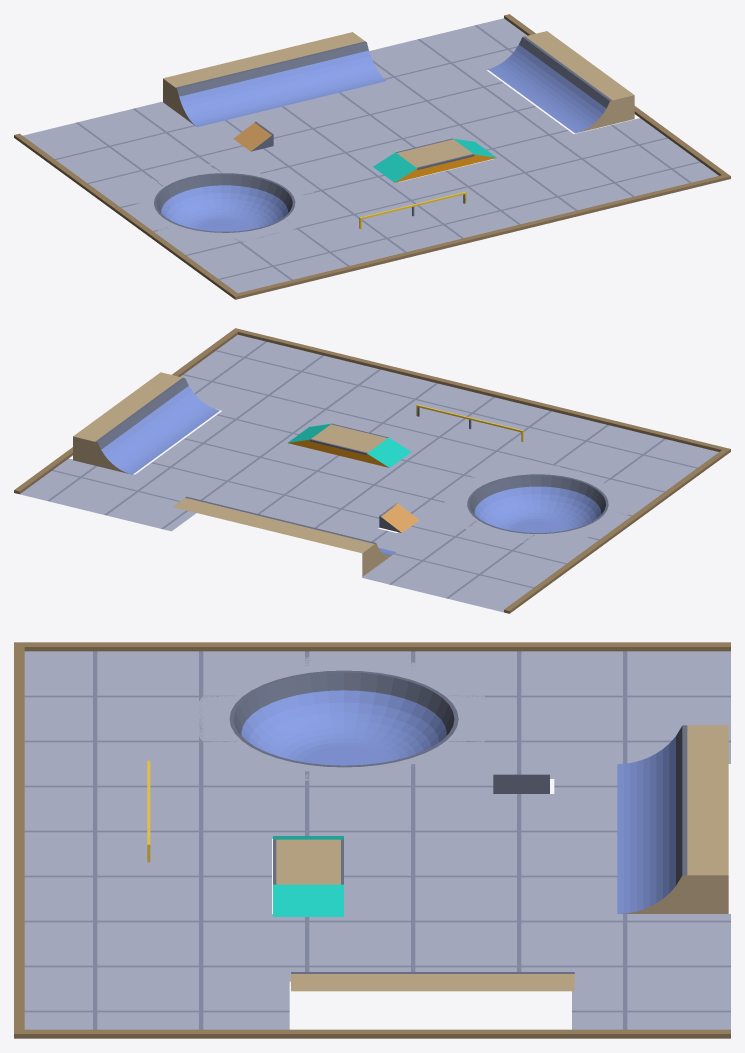
Rendered from park.glb.
3 views of the same model, one above another, from view 1: azimuth 30°, elevation 25°; view 2: azimuth 150°, elevation 25°; view 3: azimuth 270°, elevation 25° (orthographic). The views are drawn at different scales.
Parts seen in each view (by area): view 1: park; view 2: park; view 3: park.
Boxes of the visible parts, box(x1,y1,x2,y2) form: park: box(14, 14, 730, 299); park: box(14, 328, 730, 613); park: box(14, 642, 730, 1038).
Size of the model in its own units: 26.1 by 2.6 by 20.2.
